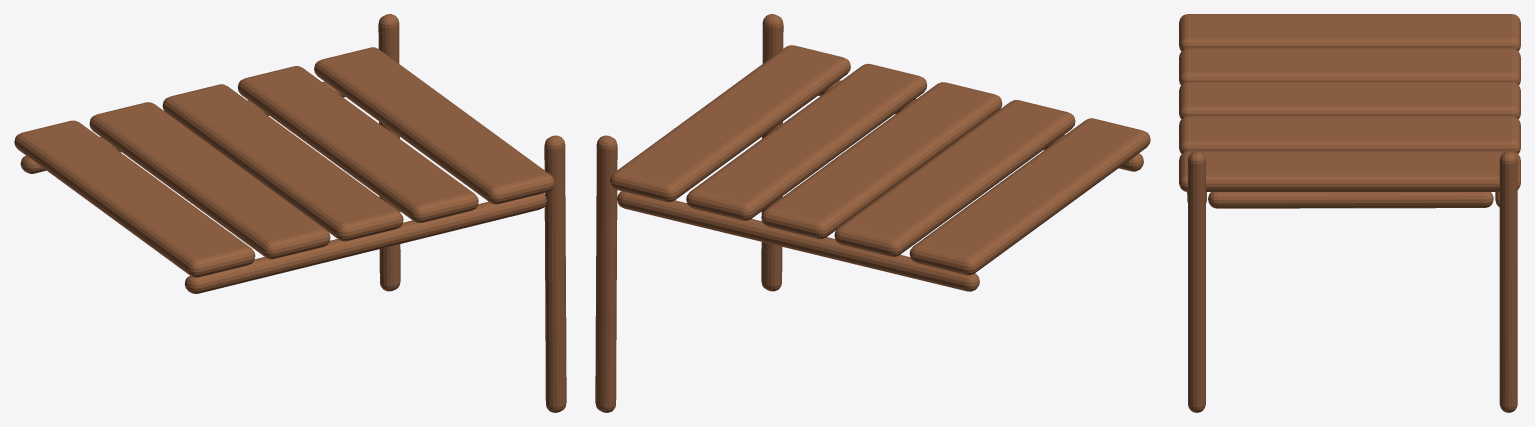
The model's file is Cais.fbx.
3 views of the same model, side by side, from view 1: azimuth 30°, elevation 25°; view 2: azimuth 150°, elevation 25°; view 3: azimuth 270°, elevation 25° (orthographic). The views are drawn at different scales.
Visible parts, largest first — view 1: Cais; view 2: Cais; view 3: Cais.
Boxes of the visible parts, bbox=[...] form: Cais: bbox=[14, 14, 566, 412]; Cais: bbox=[595, 14, 1150, 412]; Cais: bbox=[1179, 14, 1520, 412].
Bounding box in the file's own units: 509 × 351 × 420.
